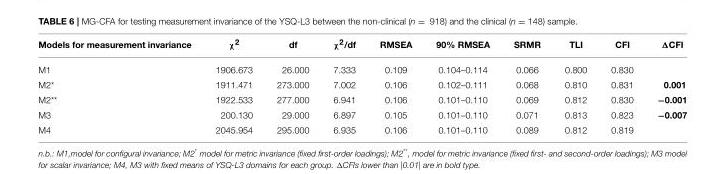table: (37, 37, 686, 134)
table column: (37, 37, 202, 134), (423, 37, 501, 134), (202, 37, 264, 134), (366, 37, 423, 134), (264, 37, 320, 134), (501, 37, 551, 134), (551, 37, 598, 134), (320, 37, 366, 134), (598, 37, 644, 134), (644, 37, 686, 134)
table column header: (37, 37, 686, 57)
table row: (37, 37, 686, 57), (37, 57, 686, 77), (37, 77, 686, 92), (37, 92, 686, 107), (37, 107, 686, 122), (37, 122, 686, 134)
